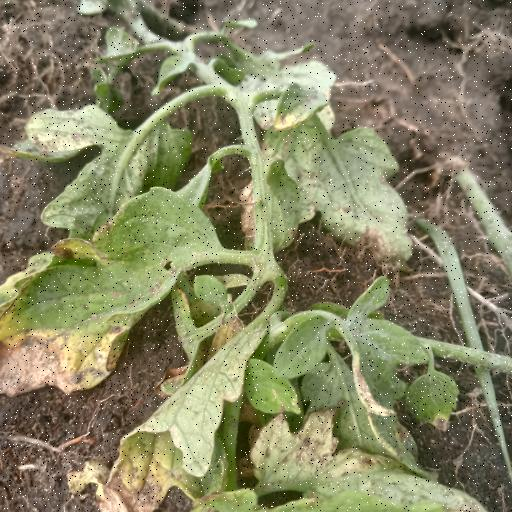Tomato_Brown_Spots: (0, 184, 229, 405), (96, 302, 298, 512), (233, 62, 424, 276)
